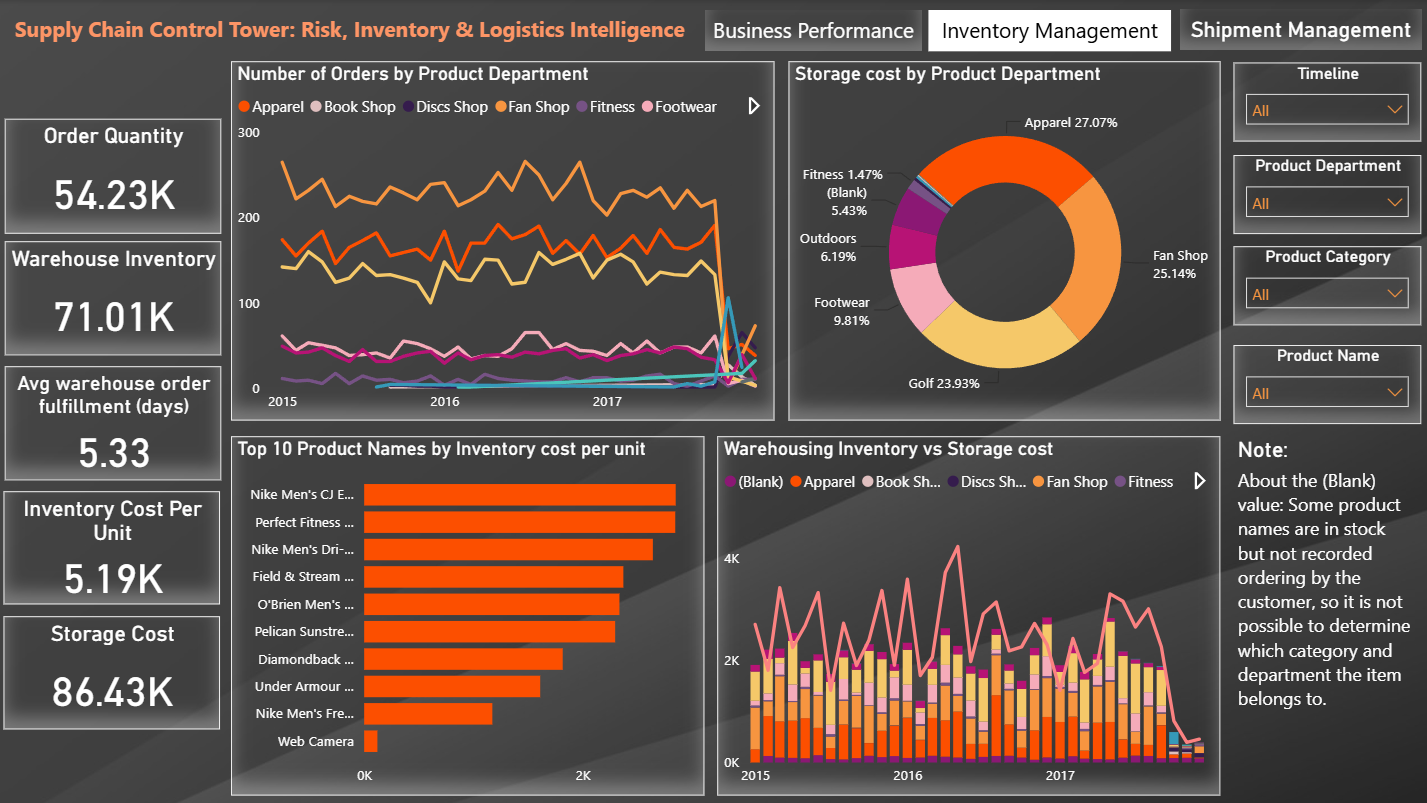

The page's visual inventory and layout, read from the dashboard file:
{"tool":"powerbi","page":{"name":"Management","canvas":[1280,720],"ordinal":1},"visuals":[{"type":"slicer","title":"Product Name","fields":{"Values":["inventory.Product Name"]},"box":[1101.6,306.7,167,70.6],"z":0},{"type":"lineStackedColumnComboChart","title":"Warehousing Inventory vs Storage cost ","fields":{"Category":["inventory.Year Month.Variation.Date Hierarchy.Year"],"Y":["Sum(inventory.Warehouse Inventory)"],"Series":["product.Product Department"],"Y2":["Sum(inventory.Storage Cost)"]},"box":[642.6,388.8,447.8,319.7],"z":1000},{"type":"slicer","title":"Product Category","fields":{"Values":["product.Product Category"]},"box":[1101.6,219.7,167,70.6],"z":2000},{"type":"clusteredBarChart","title":"Top 10 Product Names by Inventory cost per unit","fields":{"Category":["product.Product Name"],"Y":["Count(order.Order ID)"]},"box":[209.2,388.8,421.9,319.7],"z":3000},{"type":"donutChart","title":"Storage cost by Product Department","fields":{"Y":["Sum(inventory.Storage Cost)"],"Category":["product.Product Department"]},"box":[706,54.7,384.5,319.7],"z":4000},{"type":"slicer","title":"Timeline","fields":{"Values":["Date.Date.Variation.Date Hierarchy.Year","Date.Date.Variation.Date Hierarchy.Quarter","Date.Date.Variation.Date Hierarchy.Month"]},"box":[1101.6,55.5,167,70.6],"z":5000},{"type":"lineChart","title":"Number of Orders by Product Department","fields":{"Category":["Date.Date.Variation.Date Hierarchy.Year","Date.Date.Variation.Date Hierarchy.Quarter","Date.Date.Variation.Date Hierarchy.Month"],"Y":["Count(order.Order ID)"],"Series":["product.Product Department"]},"box":[208.9,54.3,484.3,320],"z":6000},{"type":"card","title":"Order Quantity","fields":{"Values":["Sum(order.Order Quantity)"]},"box":[7.8,105.8,192.6,102.4],"z":7000},{"type":"card","title":"Warehouse Inventory","fields":{"Values":["Sum(inventory.Warehouse Inventory)"]},"box":[7.8,214.8,192.6,101.3],"z":8000},{"type":"card","title":"Avg warehouse order fulfillment (days)","fields":{"Values":["Avg(fulfillment.Warehouse Order Fulfillment (days))"]},"box":[7.7,326,192.5,101.2],"z":9000},{"type":"card","title":"Inventory Cost Per Unit","fields":{"Values":["Sum(inventory.Inventory Cost Per Unit)"]},"box":[7.2,437.8,193,100.8],"z":10000},{"type":"card","title":"Storage Cost","fields":{"Values":["Sum(inventory.Storage Cost)"]},"box":[7.2,548.6,193,100.8],"z":11000},{"type":"slicer","title":"Product Department","fields":{"Values":["product.Product Department"]},"box":[1101.6,138.2,167,70.6],"z":12000},{"type":"textbox","title":"Note:","box":[1101.3,389.1,167.7,320.3],"z":13000},{"type":"actionButton","box":[631.2,7.8,193.7,46.8],"z":14000},{"type":"textbox","box":[1054.2,7.8,216,36.7],"z":15000},{"type":"actionButton","box":[1054.2,7.8,216,35.6],"z":16000},{"type":"textbox","box":[830.4,8.9,216,36.7],"z":17000},{"type":"textbox","box":[631.2,8.9,193.7,36.7],"z":18000},{"type":"textbox","box":[16.7,7.8,603.3,36.7],"z":19000}]}

Visuals, with their boxes in screenshot pixels (x1, y1, x2, y2), scaled from the page's 1280x720 canvas onto the 1427x803 screenshot:
"Product Name" slicer: box=[1228, 342, 1414, 421]
"Warehousing Inventory vs Storage cost " lineStackedColumnComboChart: box=[716, 434, 1216, 790]
"Product Category" slicer: box=[1228, 245, 1414, 324]
"Top 10 Product Names by Inventory cost per unit" clusteredBarChart: box=[233, 434, 704, 790]
"Storage cost by Product Department" donutChart: box=[787, 61, 1216, 418]
"Timeline" slicer: box=[1228, 62, 1414, 141]
"Number of Orders by Product Department" lineChart: box=[233, 61, 773, 417]
"Order Quantity" card: box=[9, 118, 223, 232]
"Warehouse Inventory" card: box=[9, 240, 223, 353]
"Avg warehouse order fulfillment (days)" card: box=[9, 364, 223, 476]
"Inventory Cost Per Unit" card: box=[8, 488, 223, 601]
"Storage Cost" card: box=[8, 612, 223, 724]
"Product Department" slicer: box=[1228, 154, 1414, 233]
"Note:" textbox: box=[1228, 434, 1415, 791]
actionButton: box=[704, 9, 920, 61]
textbox: box=[1175, 9, 1416, 50]
actionButton: box=[1175, 9, 1416, 48]
textbox: box=[926, 10, 1167, 51]
textbox: box=[704, 10, 920, 51]
textbox: box=[19, 9, 691, 50]
